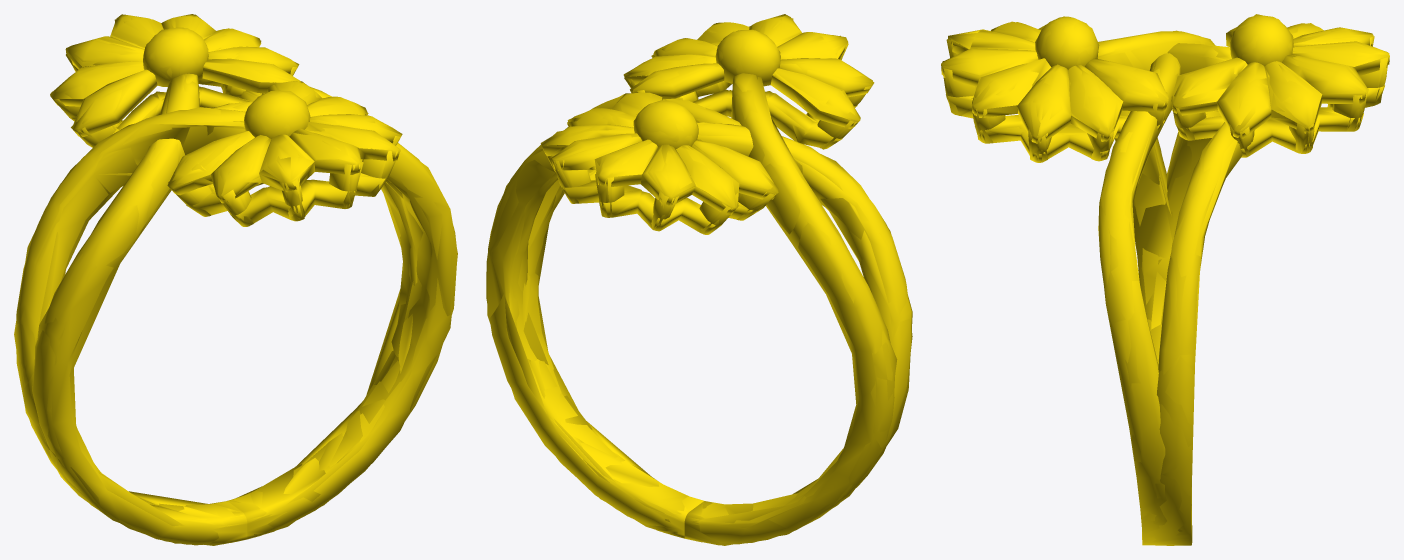
File: GLR-D000578755_hub.glb
The picture shows the model from 3 angles, left to right: view 1: azimuth 30°, elevation 25°; view 2: azimuth 150°, elevation 25°; view 3: azimuth 270°, elevation 25°; orthographic projection. The views are drawn at different scales.
Visible parts, largest first — view 1: highPolyMesh, lowPolyMesh; view 2: highPolyMesh, lowPolyMesh; view 3: highPolyMesh, lowPolyMesh.
Part boxes in pixels (x1,y1,x2,y2): highPolyMesh: (16,14,457,545); lowPolyMesh: (14,14,457,545); highPolyMesh: (486,15,912,544); lowPolyMesh: (487,14,912,545); highPolyMesh: (941,15,1389,545); lowPolyMesh: (941,14,1389,545).
Bounding box in the file's own units: 0.0201 × 0.0219 × 0.0179.
